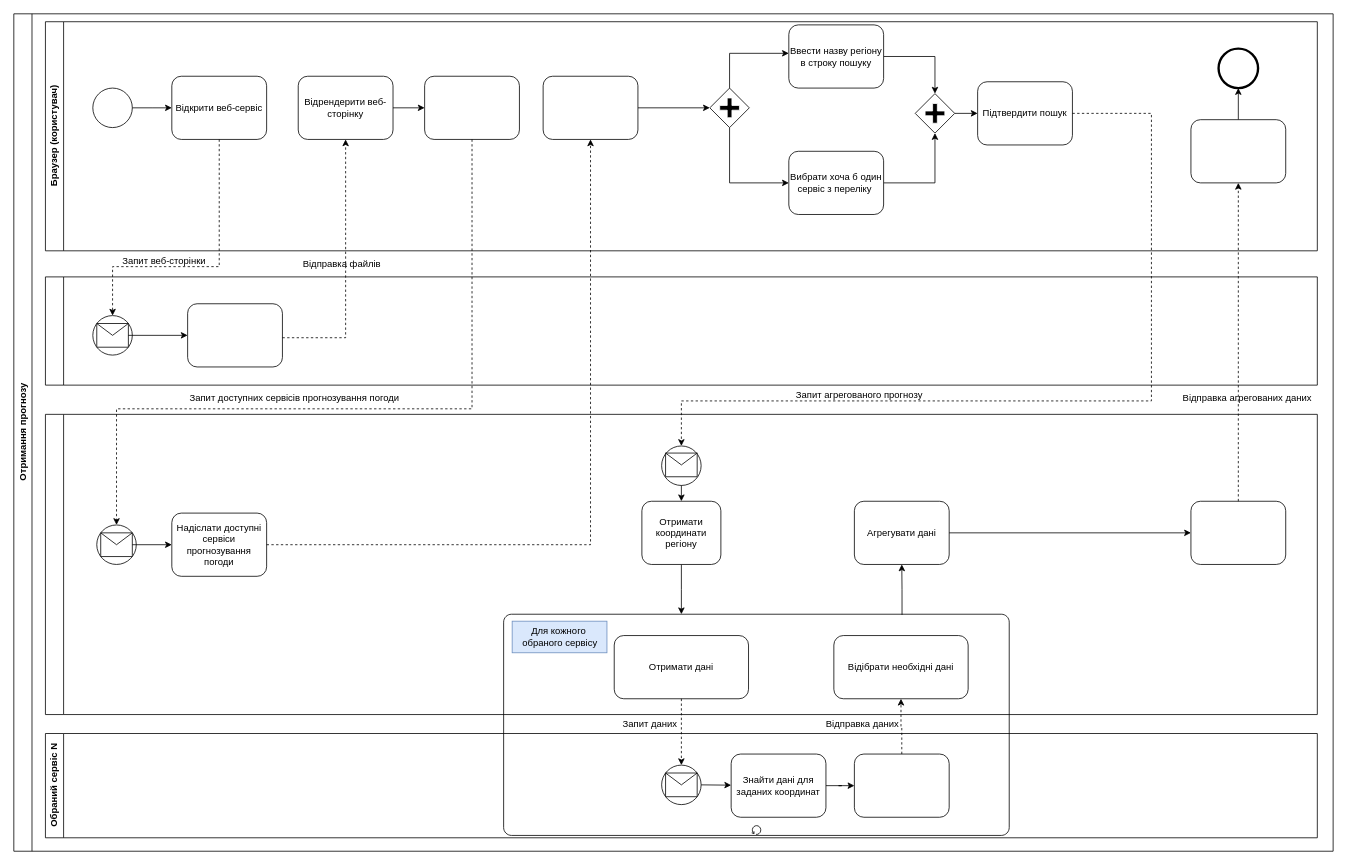
Some shapes in this 1347 by 865 pixel diagram are drawn without their labels. Here are the shapes that lost their labels. From the top down, the box of each, then its label:
(424, 75, 519, 139): Отримати доступні сервіси прогнозування погоди
(542, 75, 638, 139): Відрендерити перелік сервісів
(1190, 119, 1286, 183): Відрендерити дані
(187, 303, 282, 367): Надіслати усі необхідні файли для рендерінгу веб-сторінки
(45, 276, 1317, 385): Frontend
(1190, 500, 1286, 564): Надіслати агреговані дані
(45, 414, 1317, 715): Backend
(854, 753, 949, 817): Надіслати дані
